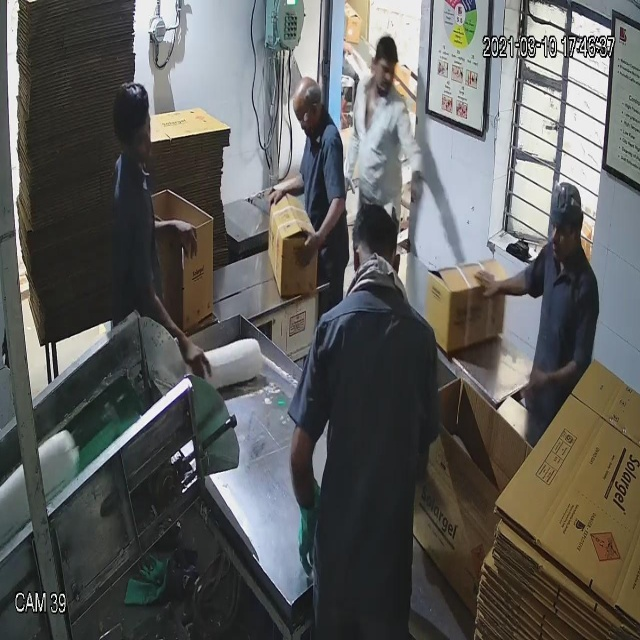Sin_guantes: (135, 276, 222, 397), (517, 335, 581, 410), (302, 193, 354, 274), (474, 249, 537, 311), (145, 204, 200, 270), (267, 161, 314, 226)
